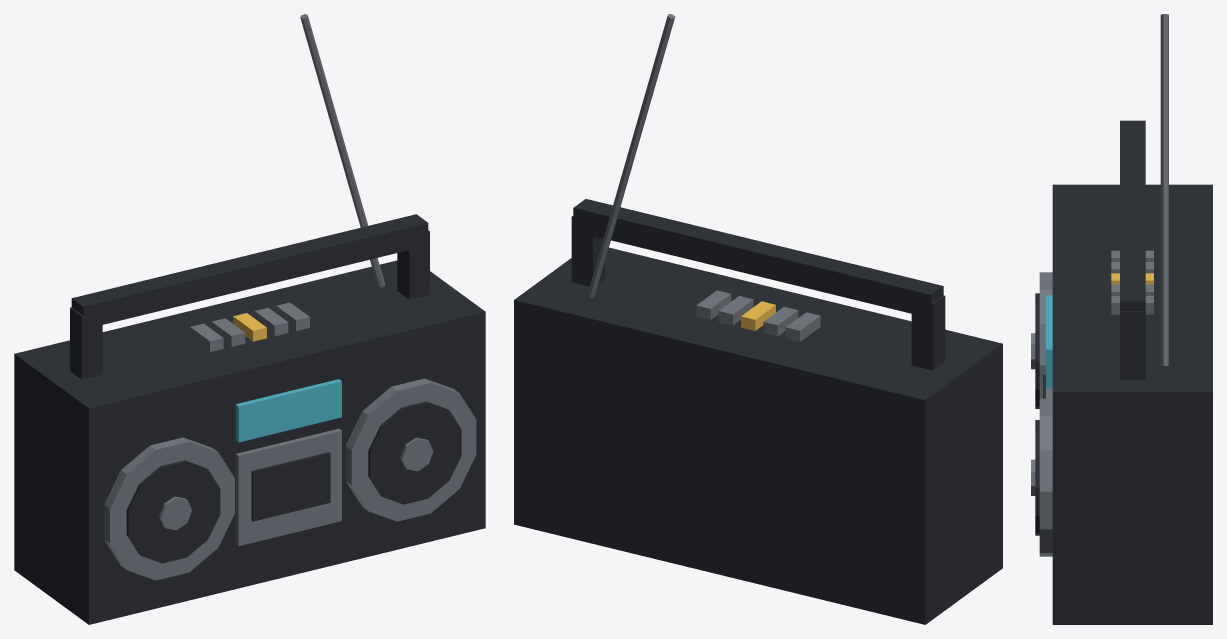
Rendered from boombox.glb.
3 renders of one model, left to right at view 1: azimuth 30°, elevation 25°; view 2: azimuth 150°, elevation 25°; view 3: azimuth 270°, elevation 25°, orthographic. The views are drawn at different scales.
Visible parts, largest first — view 1: boombox_mesh; view 2: boombox_mesh; view 3: boombox_mesh.
Boxes of the visible parts, left/top/right/bottom form: boombox_mesh: left=14, top=14, right=485, bottom=624; boombox_mesh: left=514, top=14, right=1002, bottom=624; boombox_mesh: left=1031, top=14, right=1212, bottom=624.
Size of the model in its own units: 0.46 by 0.561 by 0.17.
1 material, 1 textured.
